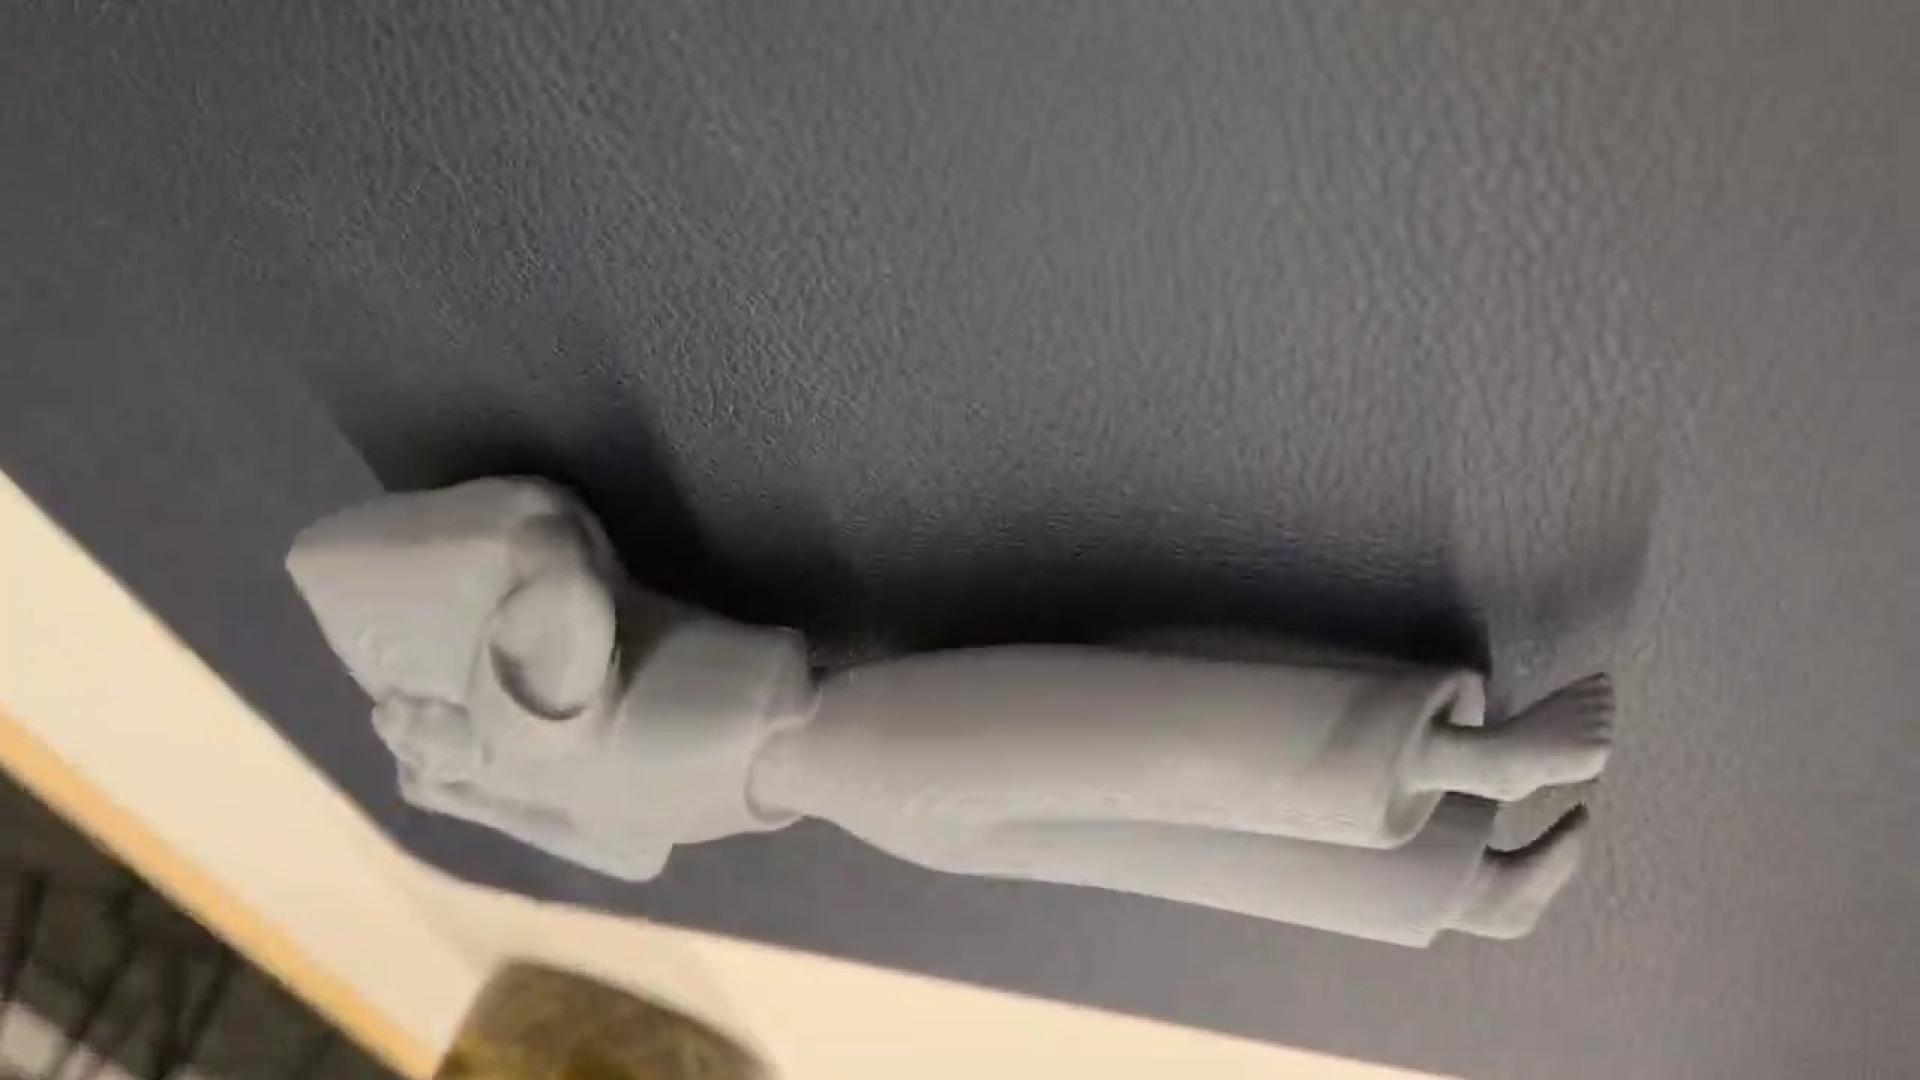Bad-style: (273, 477, 1625, 951)
